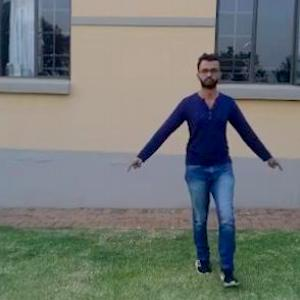land: (146, 71, 270, 244)
